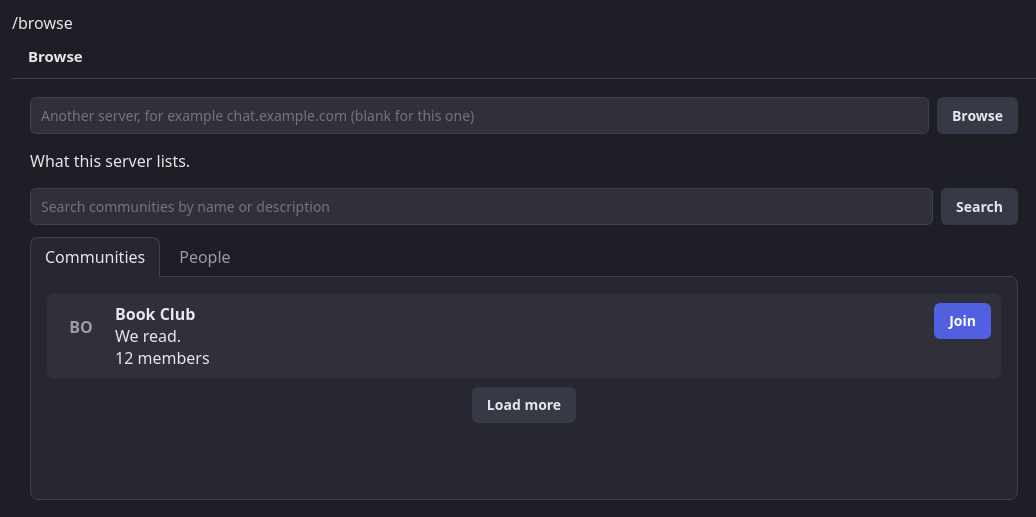
Test: Browse: this server's communities › loads more, adds them below, and shows none twice
expect the text "Book Club" is shown: met, box [115,303,195,325]
Step 1. Click the button "Load more" → (524, 405), box [472,387,576,422]
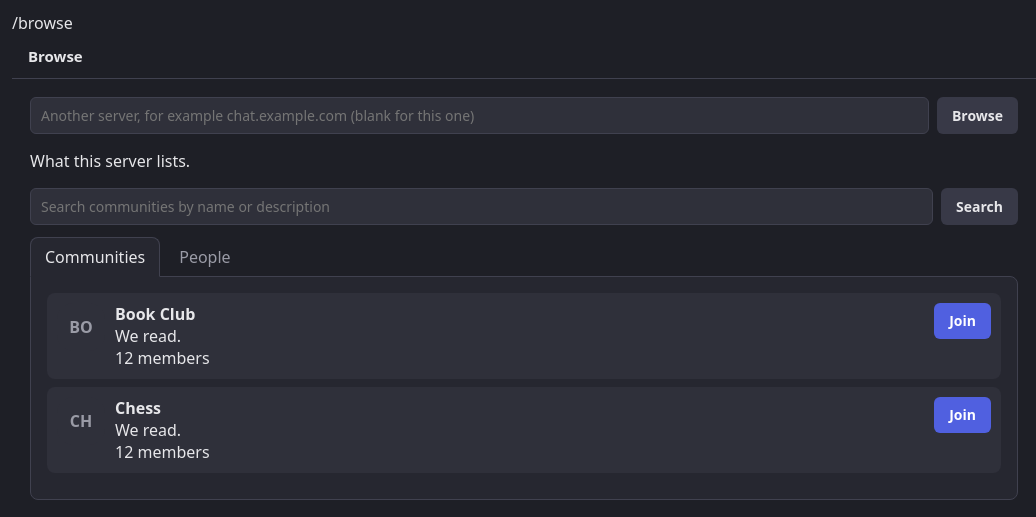
expect the text "Book Club" is shown once: met, box [115,303,195,325]
expect the text "Chess" is shown: met, box [115,397,161,419]
expect the button "Load more" is gone: met
